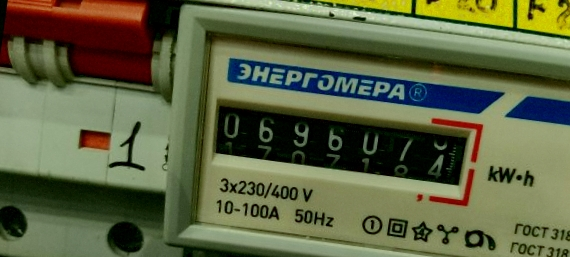0: (219, 108, 243, 140), (359, 124, 382, 157)
4: (423, 149, 446, 180)
6: (253, 112, 279, 144), (324, 122, 347, 152)
7: (393, 130, 414, 162)
9: (289, 118, 311, 149)
screen: (191, 78, 485, 206)
